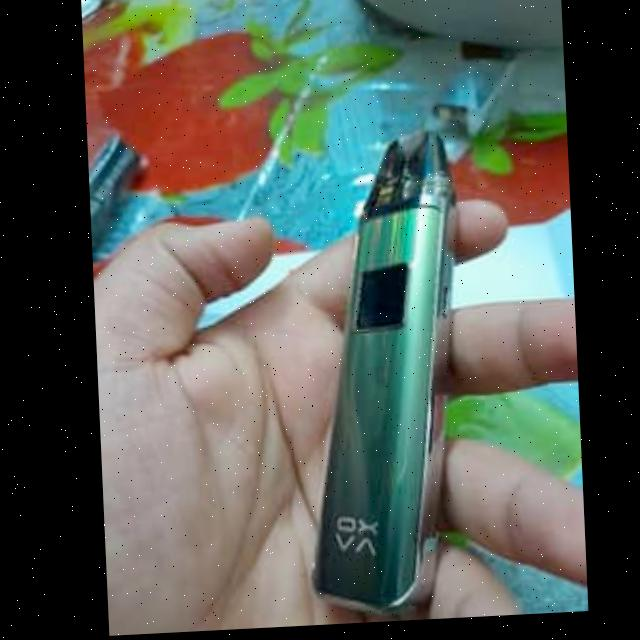vape: (286, 132, 471, 628)
